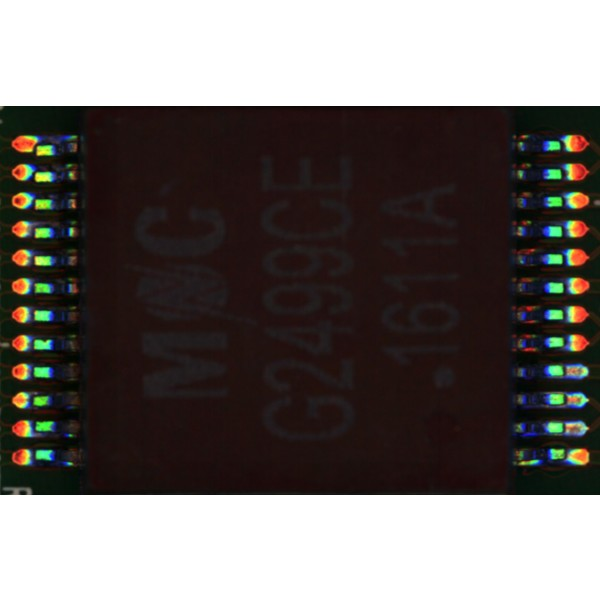Bad_podu: (560, 393, 573, 404), (559, 422, 572, 433), (559, 367, 573, 376)
